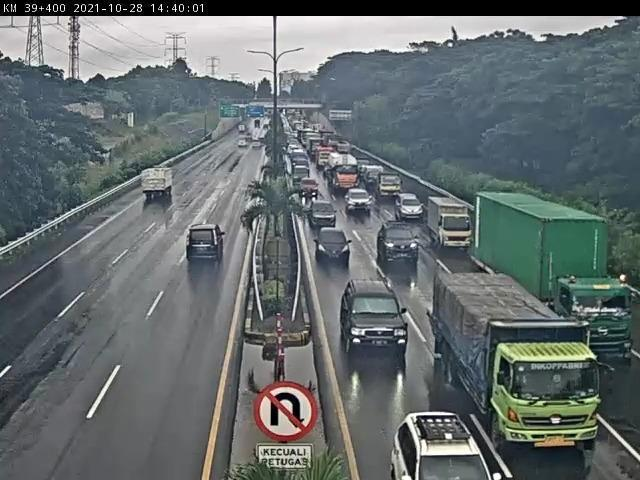car: (341, 277, 410, 350), (378, 221, 421, 262), (187, 227, 225, 264), (315, 228, 353, 262), (308, 199, 340, 227), (394, 192, 425, 220), (374, 171, 404, 197), (346, 188, 372, 211), (299, 178, 321, 198)
truck: (433, 274, 598, 453), (476, 194, 635, 361), (430, 196, 477, 252), (328, 154, 363, 193), (143, 167, 176, 199)
